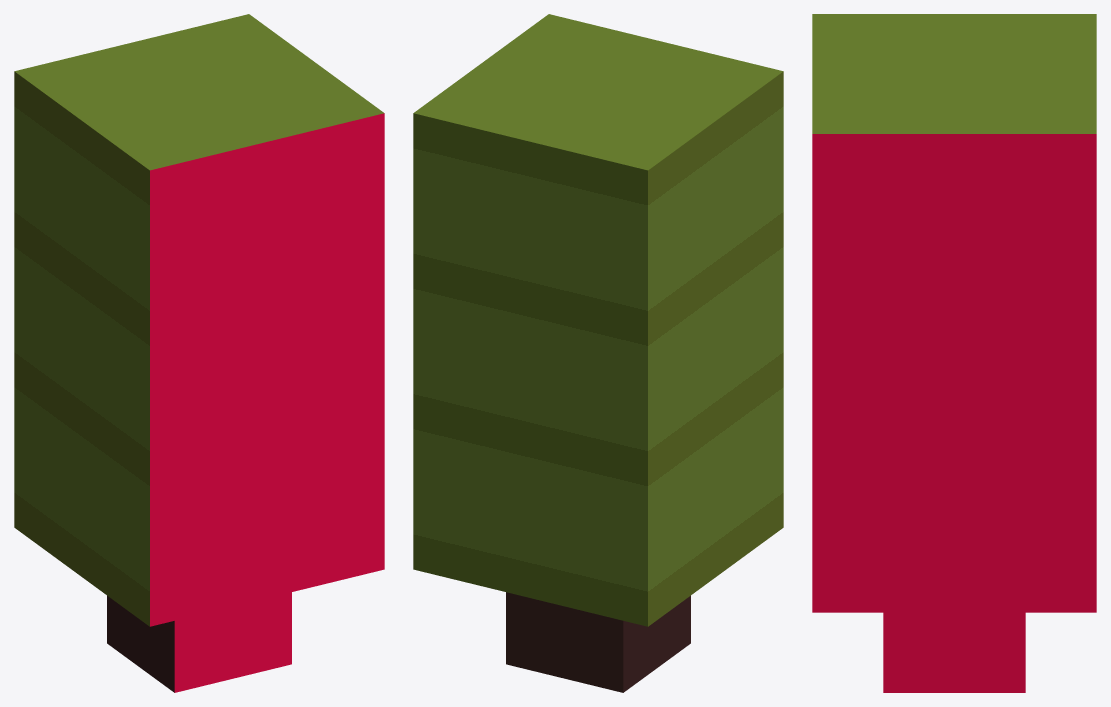
The model's file is tree_4.gltf.
3 views of the same model, side by side, from view 1: azimuth 30°, elevation 25°; view 2: azimuth 150°, elevation 25°; view 3: azimuth 270°, elevation 25° (orthographic). The views are drawn at different scales.
Visible parts, largest first — view 1: mesh; view 2: mesh; view 3: mesh.
Part boxes in pixels (x1,y1,x2,y2): mesh: (14, 14, 384, 692); mesh: (413, 14, 783, 692); mesh: (812, 14, 1096, 692).
Size of the model in its own units: 0.875 by 2 by 0.875.
Materials: 1 (1 with a texture image).
